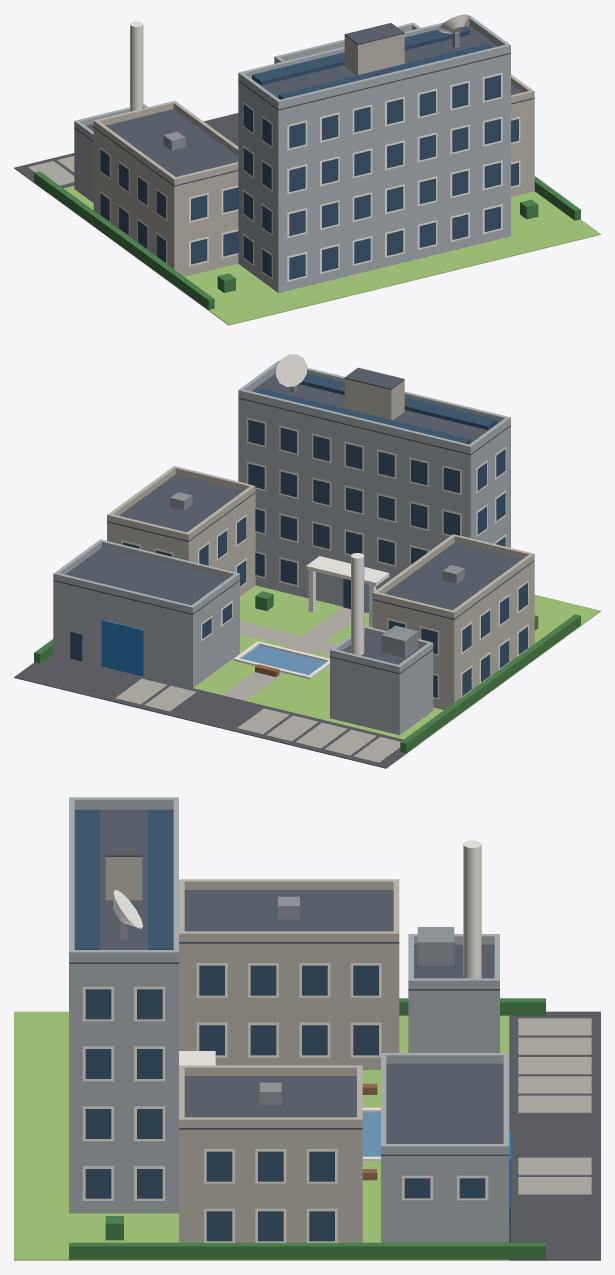
The picture shows the model from 3 angles, top to bottom: view 1: azimuth 30°, elevation 25°; view 2: azimuth 150°, elevation 25°; view 3: azimuth 270°, elevation 25°; orthographic projection. The views are drawn at different scales.
Parts seen in each view (by area): view 1: wall (×4), lawn (×3), roof (×3), parapet (×8), hedge (×2), solar_panel (×2), plant_room, smoke_stack, asphalt, parking_bay; view 2: wall (×5), roof (×6), parapet (×13), lawn (×5), asphalt, parking_bay (×7), solar_panel (×2), hedge, paving (×3), garage_door, plant_room, smoke_stack (+4 smaller); view 3: wall (×5), roof (×6), lawn (×4), parapet (×13), window_glass (×22), asphalt, hedge (×2), parking_bay (×7), solar_panel (×2), smoke_stack, plant_room, ac_unit (+2 smaller).
Part boxes in pixels (x1,y1,x2,y2): wall (×4): (74, 54, 534, 292); lawn (×3): (128, 191, 600, 325); roof (×3): (93, 23, 510, 186); parapet (×8): (93, 16, 510, 185); hedge (×2): (34, 171, 580, 309); solar_panel (×2): (252, 27, 493, 99); plant_room: (344, 34, 404, 75); smoke_stack: (130, 21, 143, 111); asphalt: (14, 113, 238, 192); parking_bay: (28, 161, 74, 185); wall (×5): (53, 398, 534, 735); roof (×6): (53, 367, 534, 674); parapet (×13): (53, 360, 534, 673); lawn (×5): (193, 585, 600, 743); asphalt: (14, 654, 419, 768); parking_bay (×7): (115, 678, 400, 762); solar_panel (×2): (256, 373, 497, 444); hedge: (400, 614, 580, 752); paving (×3): (222, 607, 365, 700); garage_door: (101, 619, 143, 676); plant_room: (344, 379, 404, 420); smoke_stack: (351, 553, 364, 655); wall (×5): (69, 943, 509, 1242); roof (×6): (69, 809, 509, 1155); lawn (×4): (14, 1011, 509, 1260); parapet (×13): (69, 797, 509, 1154); window_glass (×22): (85, 965, 378, 1241); asphalt: (509, 1011, 600, 1260); hedge (×2): (69, 998, 545, 1259); parking_bay (×7): (518, 1018, 591, 1194); solar_panel (×2): (74, 810, 173, 949); smoke_stack: (463, 840, 481, 978); plant_room: (105, 857, 142, 900); ac_unit: (417, 927, 454, 965).
Size of the model in its own units: 32 by 17.96 by 32.
